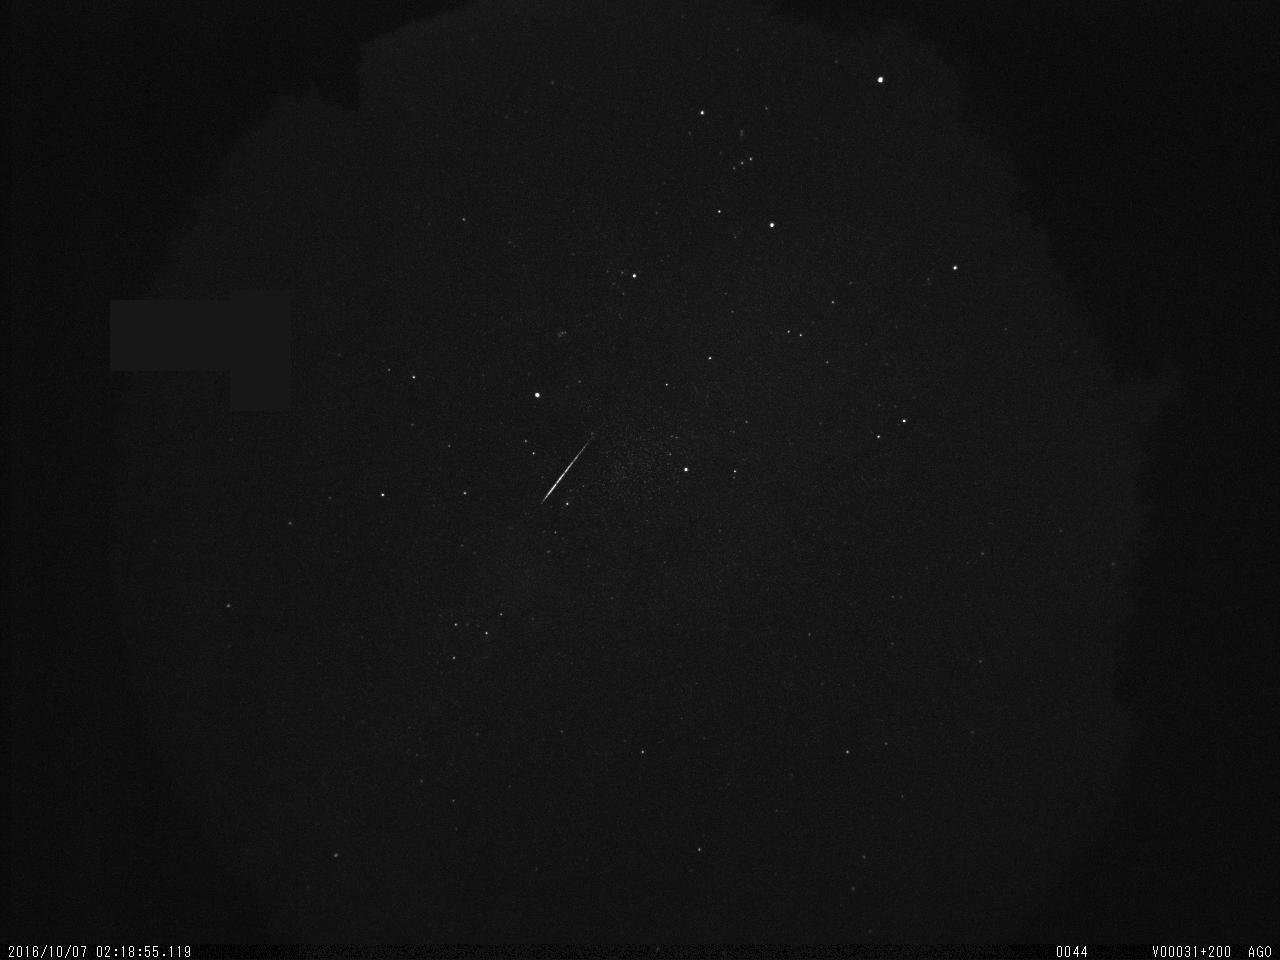meteor: (532, 432, 610, 514)
